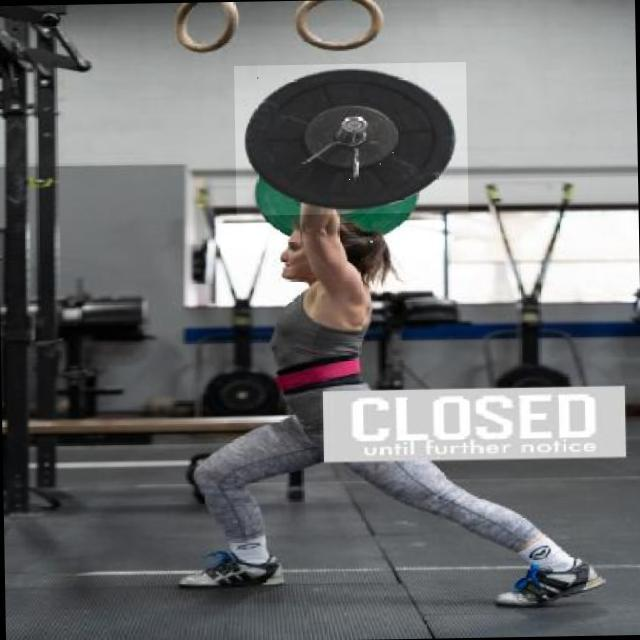barbell: (235, 63, 469, 217)
